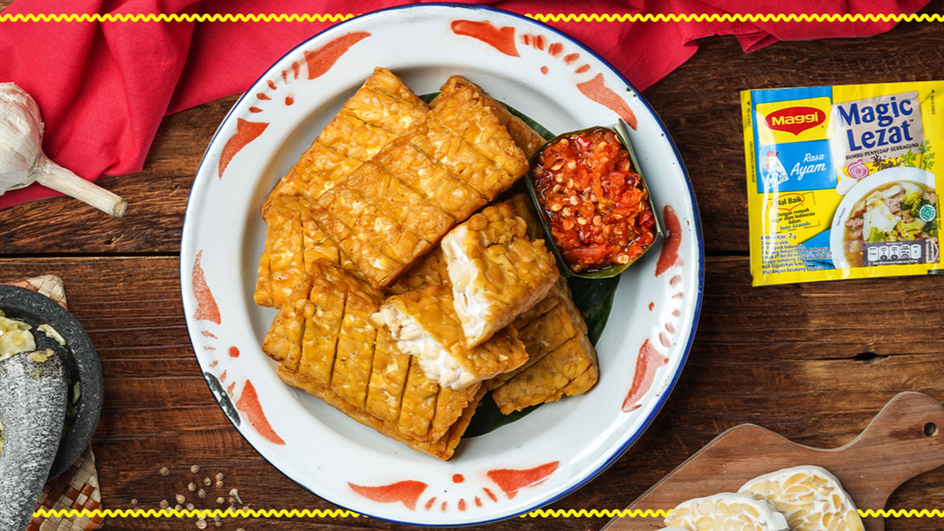Tempe: (296, 84, 509, 280), (266, 263, 446, 438)
